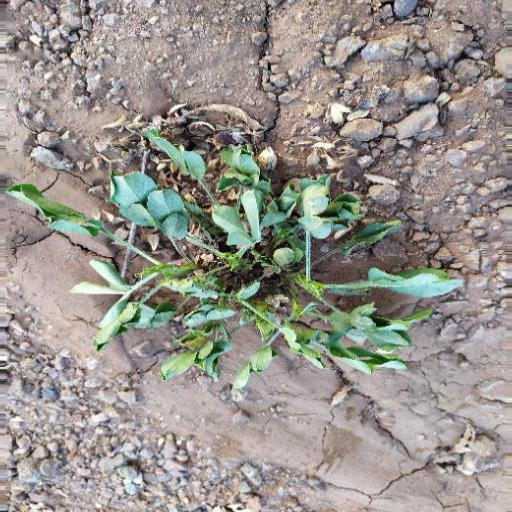weed: (73, 122, 467, 399)
